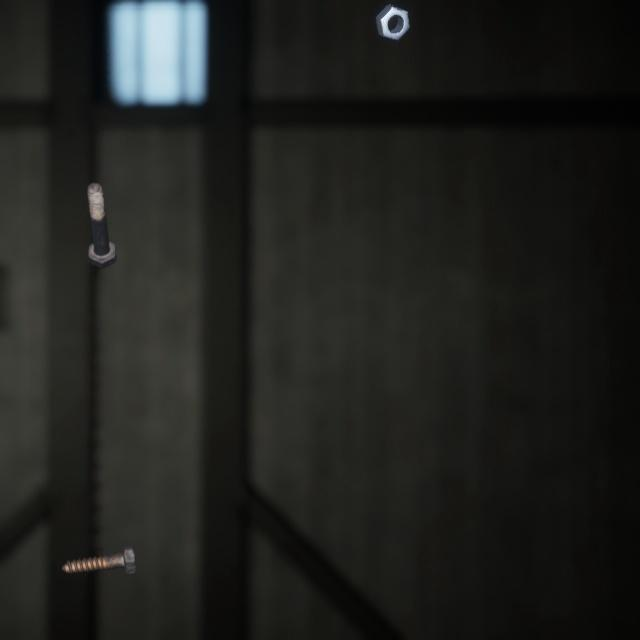bolt: (82, 163, 120, 257), (57, 518, 141, 556)
nut: (371, 0, 414, 37)
